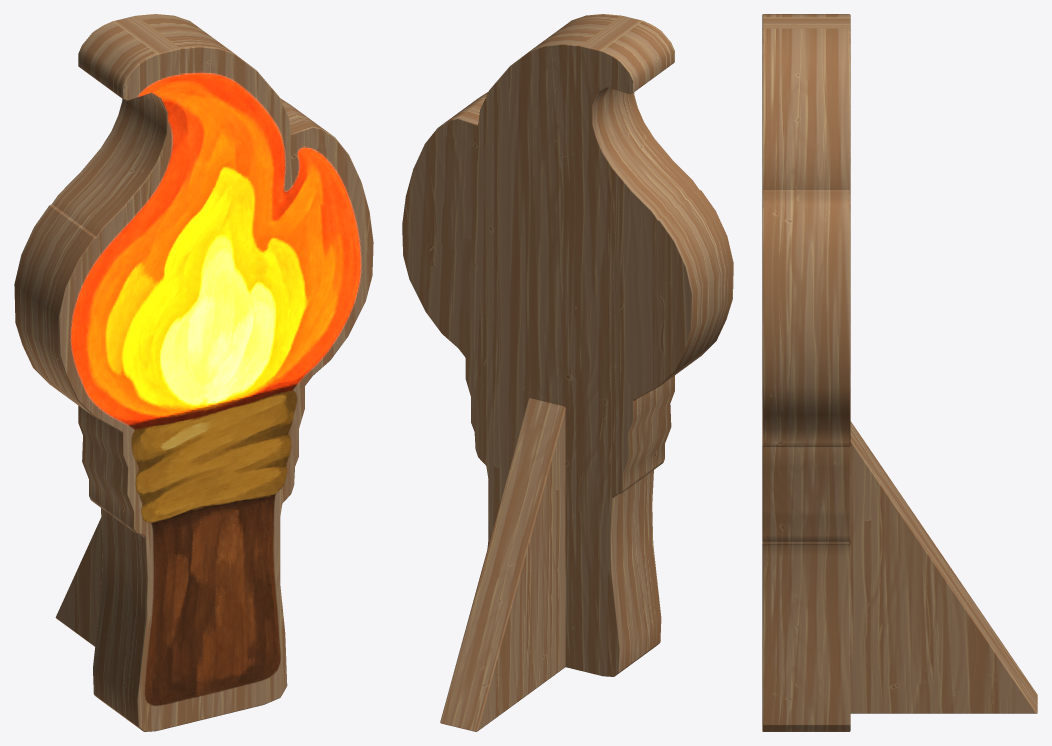
Rendered from torch.glb.
3 renders of one model, left to right at view 1: azimuth 30°, elevation 25°; view 2: azimuth 150°, elevation 25°; view 3: azimuth 270°, elevation 25°, orthographic. The views are drawn at different scales.
Visible parts, largest first — view 1: torch_Block, torch_RearBrace; view 2: torch_Block, torch_RearBrace; view 3: torch_Block, torch_RearBrace.
Boxes of the visible parts, bbox=[...] form: torch_Block: bbox=[14, 14, 373, 731]; torch_RearBrace: bbox=[55, 517, 102, 646]; torch_Block: bbox=[402, 14, 733, 676]; torch_RearBrace: bbox=[440, 398, 565, 731]; torch_Block: bbox=[762, 14, 850, 731]; torch_RearBrace: bbox=[850, 421, 1037, 713].
Bounding box in the file's own units: 0.8025 × 1.65 × 0.6244.
1 material, 1 textured.
